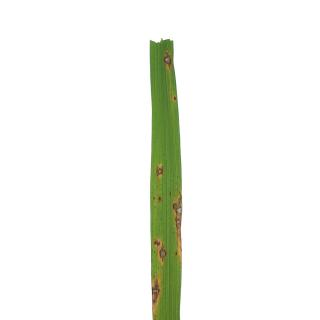Blast: (172, 187, 183, 264), (153, 237, 169, 270), (149, 274, 160, 319), (162, 46, 174, 76), (152, 163, 167, 182)
